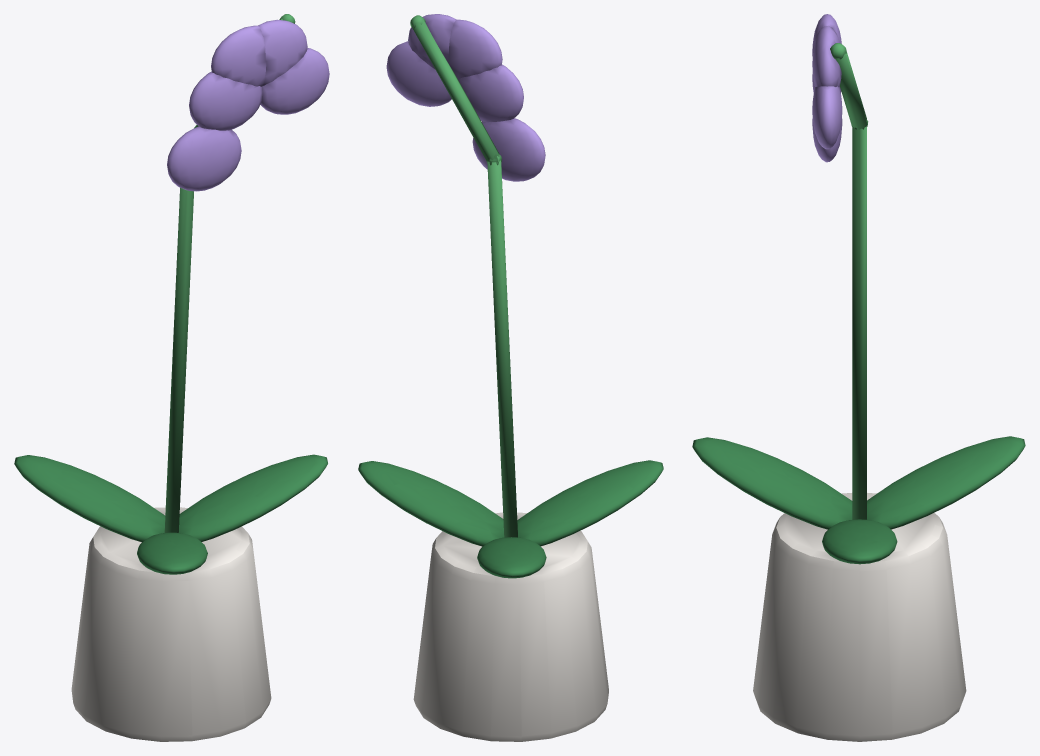
The model's file is gift-hazel.glb.
The picture shows the model from 3 angles, left to right: view 1: azimuth 30°, elevation 25°; view 2: azimuth 150°, elevation 25°; view 3: azimuth 270°, elevation 25°; orthographic projection. The views are drawn at different scales.
Visible parts, largest first — view 1: gift-hazel; view 2: gift-hazel; view 3: gift-hazel.
Boxes of the visible parts, x1,y1,x2,y2 form: gift-hazel: (14, 14, 329, 741); gift-hazel: (358, 14, 663, 741); gift-hazel: (692, 14, 1025, 741).
Size of the model in its own units: 0.2755 by 0.7304 by 0.3089.
